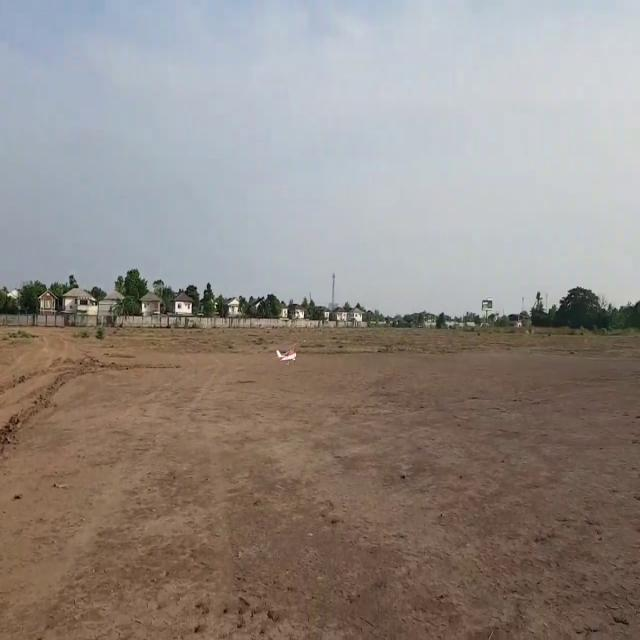iha: (277, 345, 298, 366)
